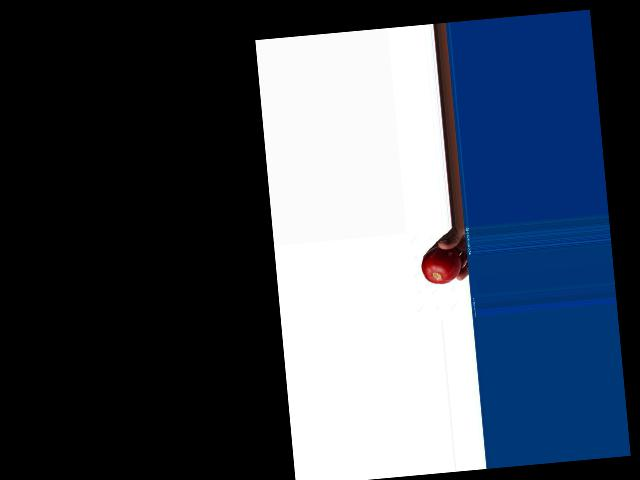tomato: (420, 244, 463, 285)
